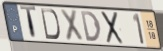1: (132, 13, 146, 47)
D: (79, 10, 103, 43), (40, 8, 62, 41)
T: (18, 5, 38, 41)
X: (59, 8, 85, 44), (100, 10, 125, 45)
